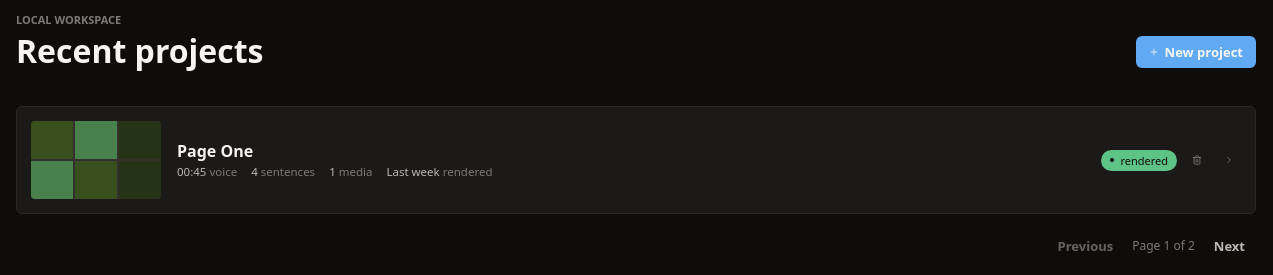
LauncherPage › switches recent project pages
Expected: the text "Page One" is shown, [177, 140, 253, 162]
Click the button "Next" at (1229, 246), box [1203, 234, 1256, 258]
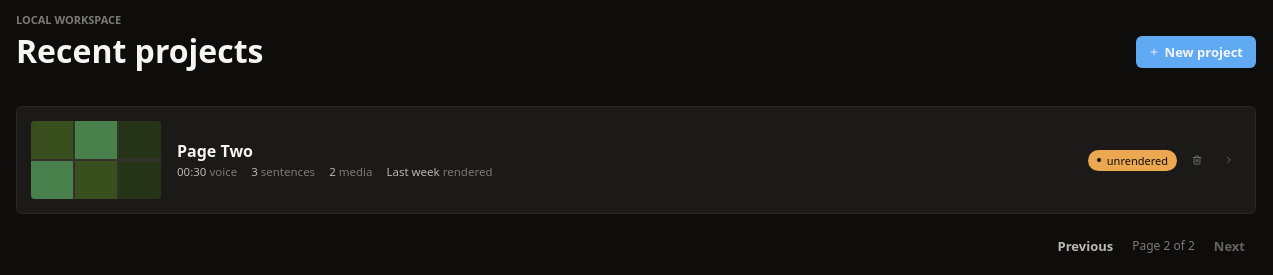
Expected: the text "Page Two" is shown, [177, 140, 253, 162]
Expected: the text "Page 2 of 2" is shown, [1132, 238, 1195, 254]
